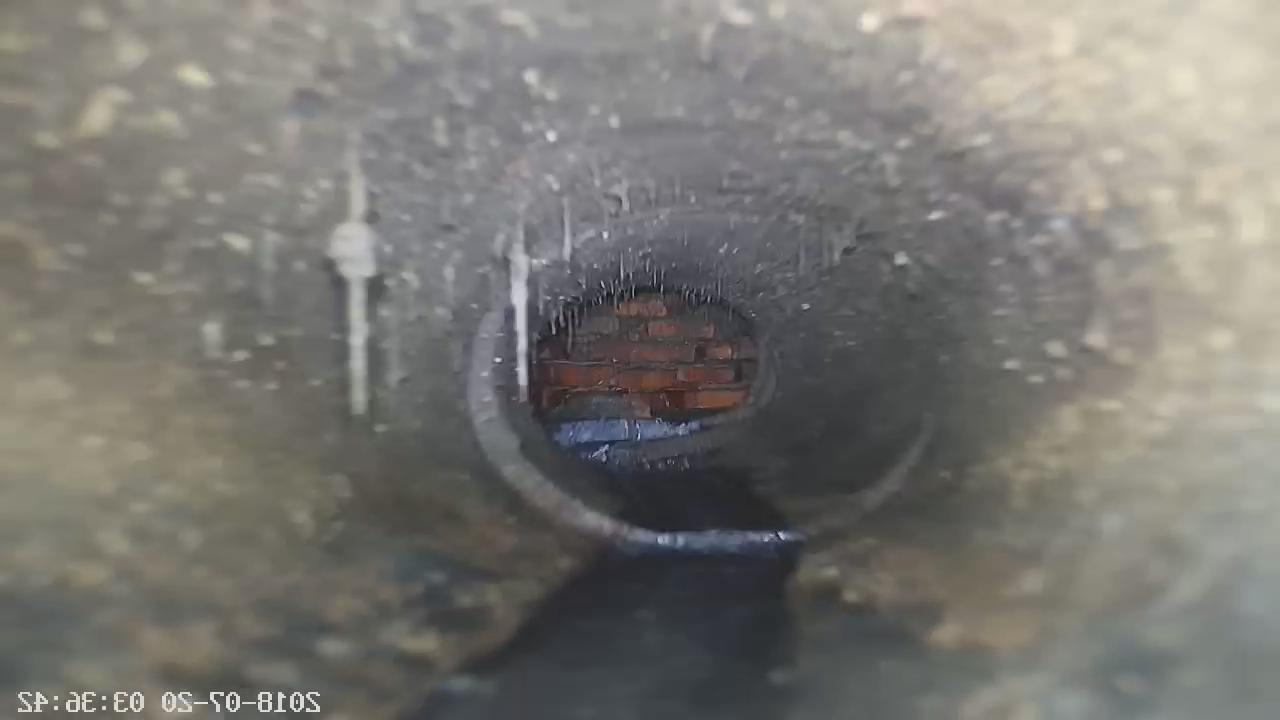CKTJ: (466, 310, 934, 553)
CQBG: (530, 283, 770, 444)
